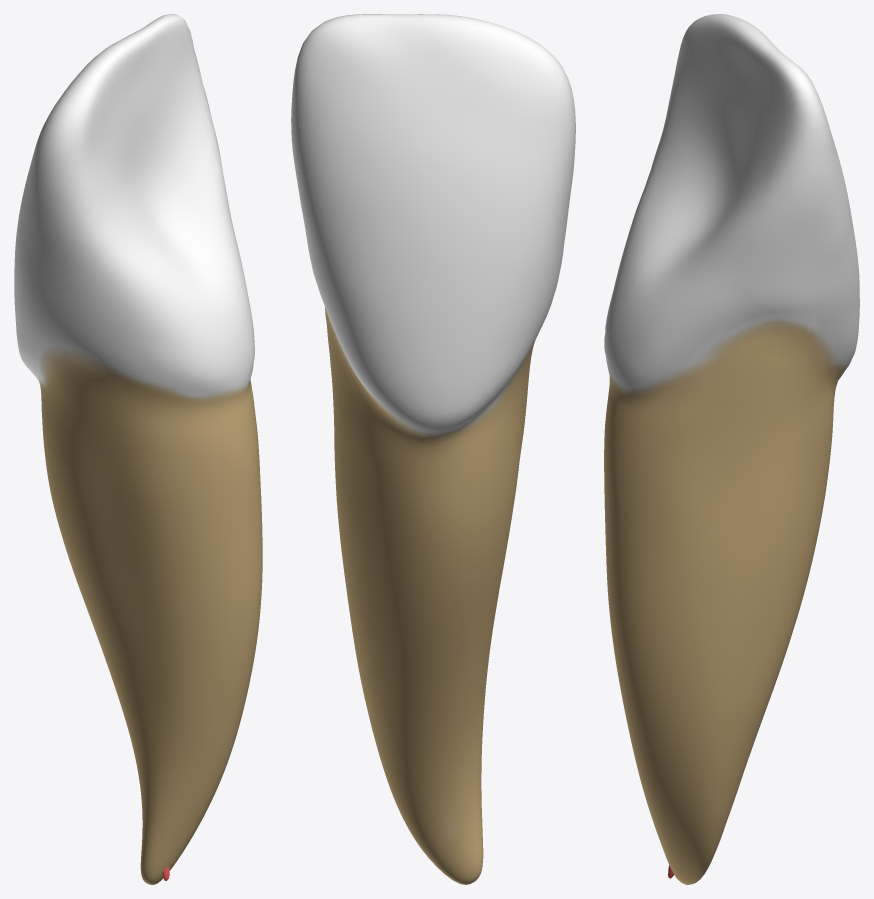
The picture shows the model from 3 angles, left to right: view 1: azimuth 30°, elevation 25°; view 2: azimuth 150°, elevation 25°; view 3: azimuth 270°, elevation 25°; orthographic projection. The views are drawn at different scales.
Visible parts, largest first — view 1: outer; view 2: outer; view 3: outer.
Part boxes in pixels (x1,y1,x2,y2): outer: (14, 14, 262, 884); outer: (291, 14, 575, 884); outer: (604, 14, 859, 884).
Bounding box in the file's own units: 2.47 × 9.13 × 2.48.
Materials: 3 (1 with a texture image).
